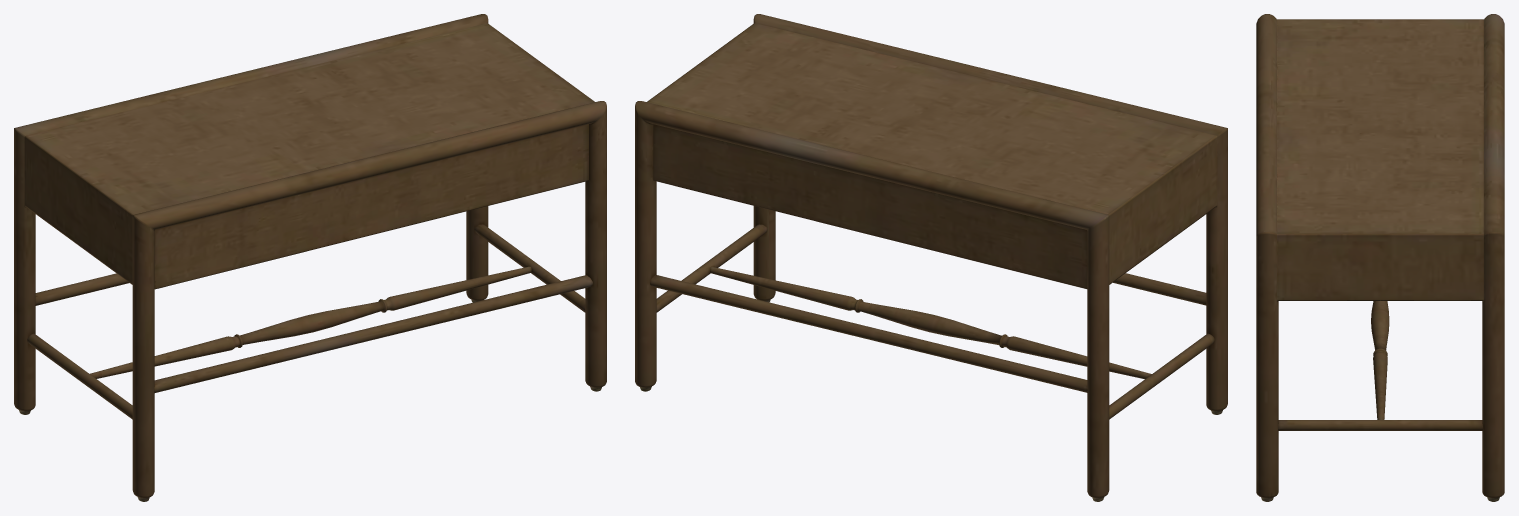
The model's file is small_wooden_table_01.glb.
The picture shows the model from 3 angles, left to right: view 1: azimuth 30°, elevation 25°; view 2: azimuth 150°, elevation 25°; view 3: azimuth 270°, elevation 25°; orthographic projection. The views are drawn at different scales.
Visible parts, largest first — view 1: small_wooden_table_01; view 2: small_wooden_table_01; view 3: small_wooden_table_01.
Boxes of the visible parts, bbox=[...] form: small_wooden_table_01: bbox=[14, 14, 606, 501]; small_wooden_table_01: bbox=[635, 14, 1227, 501]; small_wooden_table_01: bbox=[1256, 14, 1504, 501].
Size of the model in its own units: 0.9162 by 0.5331 by 0.4399.
Materials: 1 (1 with a texture image).
